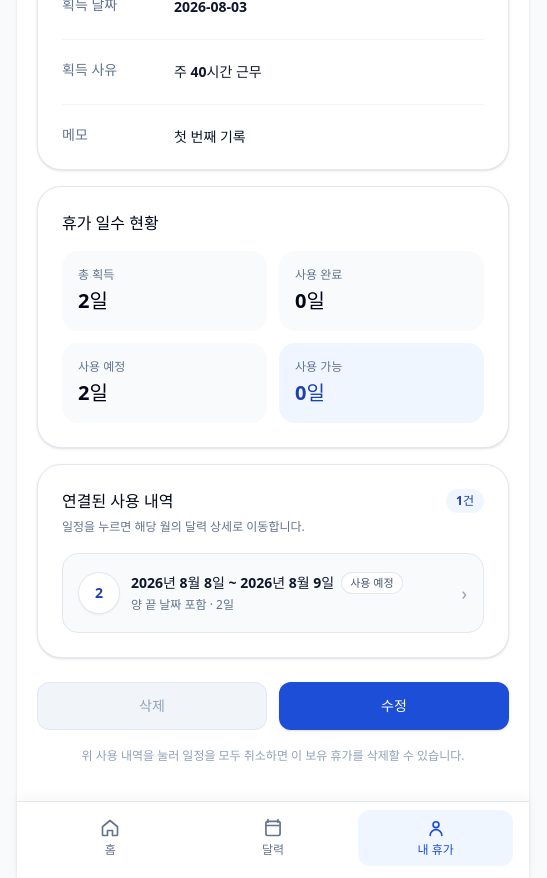
Test: 보유 휴가 상세·수정·삭제 흐름 › 사용 기록이 연결된 보유 휴가의 삭제와 획득 일수 축소를 차단한다
(page scrolled)
Expected: the button "삭제" is disabled, left=37, top=682, right=267, bottom=730
Expected: the text "위 사용 내역을 눌러 일정을 모두 취소하면 이 보유 휴가를 삭제할 수 있습니다." is shown, left=82, top=747, right=464, bottom=764
Click the link with aria-label "2026년 8월 8일부터 2026년 8월 9일까지 2일 사용 일정 보기" at (273, 593), box left=62, top=553, right=484, bottom=633
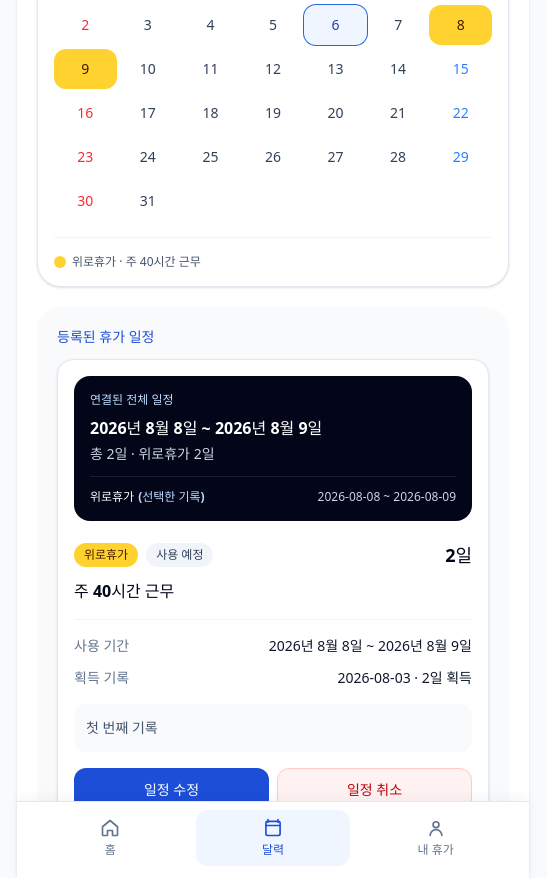
Click the link "내 휴가" at (436, 838), box left=418, top=818, right=454, bottom=858
(page scrolled)
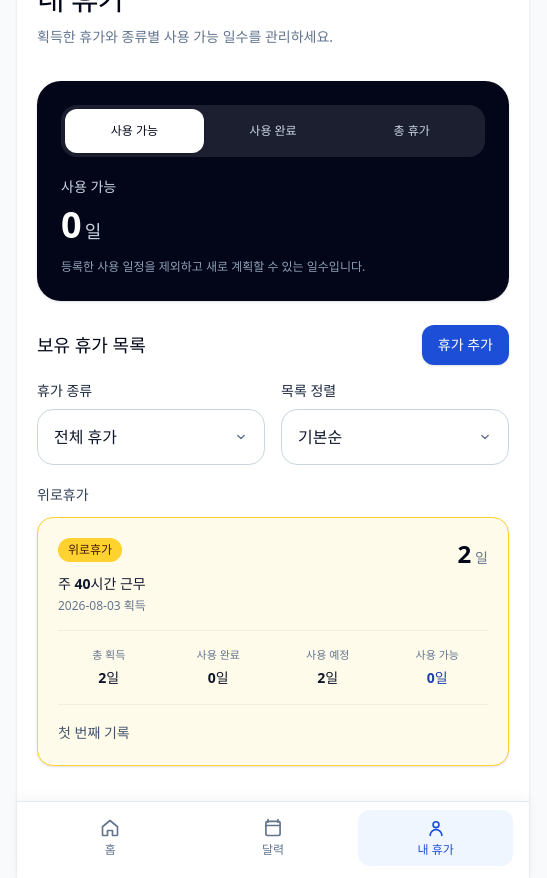
Click the link with aria-label "위로휴가 2일 상세 보기" at (273, 641), box left=37, top=517, right=509, bottom=766
(page scrolled)
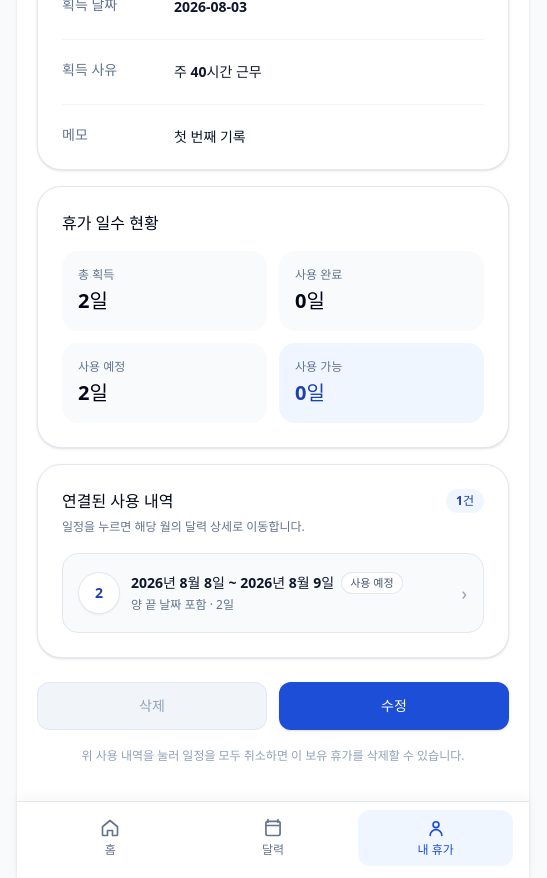
Click the link "수정" at (394, 706), box left=279, top=682, right=509, bottom=730
(page scrolled)
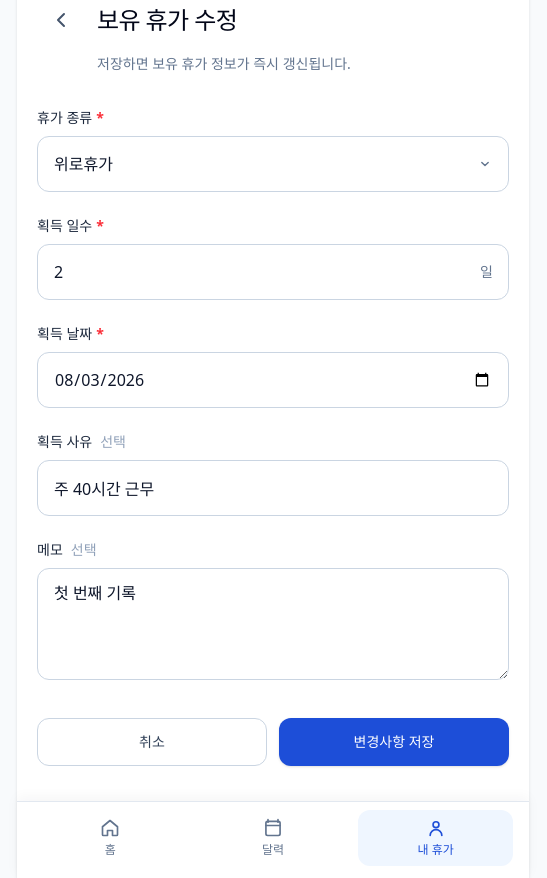
Replace the text in the number field labelled "획득 일수 * 일" with "1" at (273, 272), box left=37, top=244, right=509, bottom=300
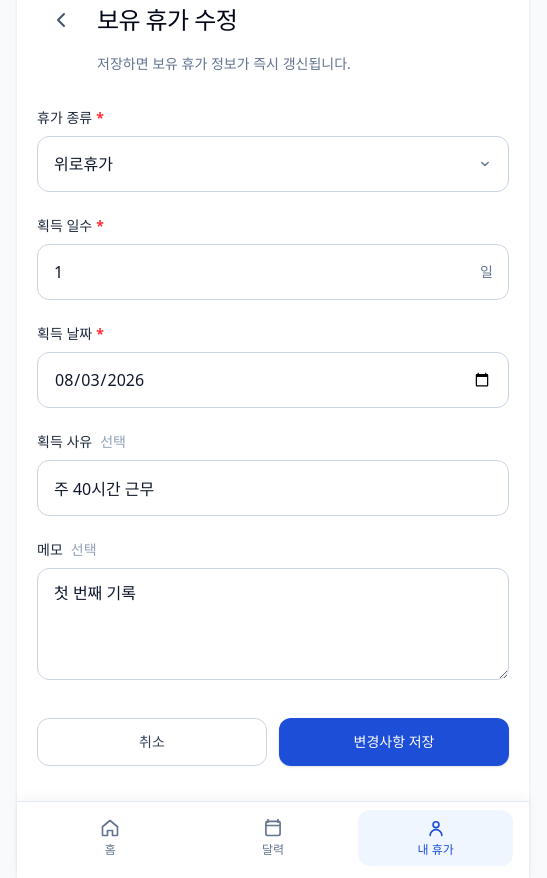
Click the button "변경사항 저장" at (394, 742), box left=279, top=718, right=509, bottom=766
(page scrolled)
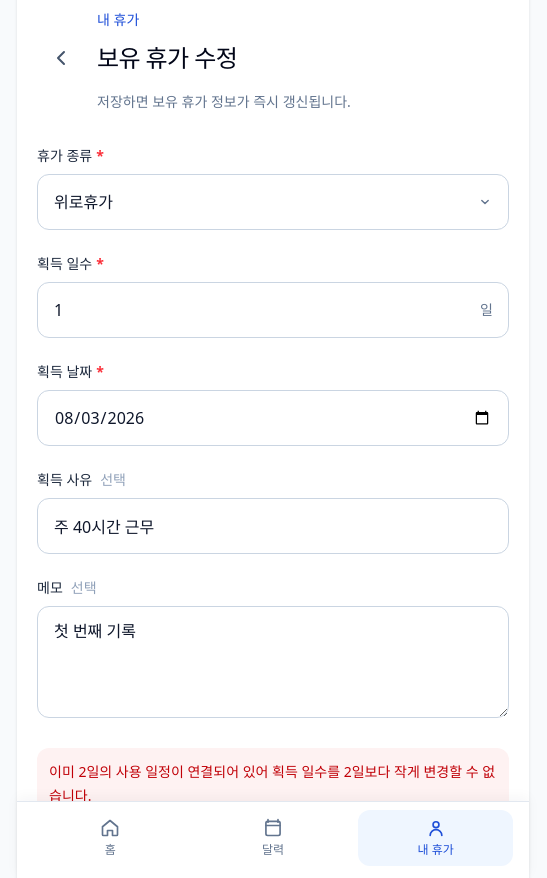
Expected: the heading "보유 휴가 수정" is shown, left=97, top=42, right=237, bottom=74
Expected: the message shows "이미 2일의 사용 일정이 연결되어 있어", left=49, top=762, right=495, bottom=805
